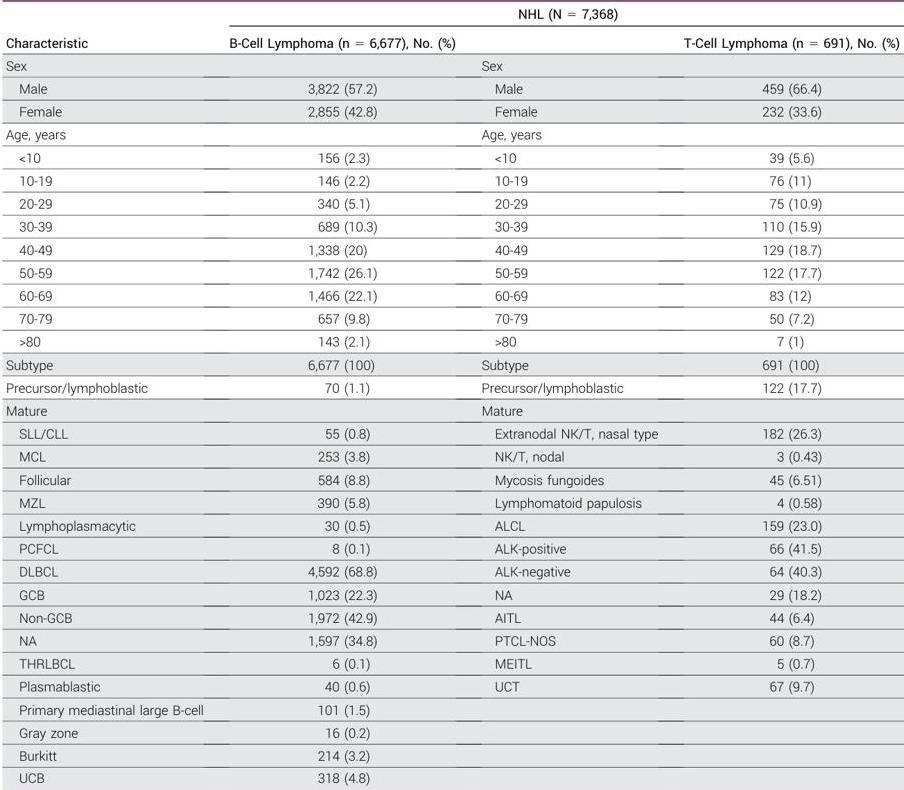table: (5, 5, 899, 785)
table column: (215, 5, 468, 785), (670, 5, 899, 785), (5, 5, 215, 785), (468, 5, 670, 785)
table column header: (5, 5, 899, 77)
table row: (5, 27, 899, 77), (5, 77, 899, 100), (5, 100, 899, 123), (5, 123, 899, 146), (5, 146, 899, 169), (5, 169, 899, 192), (5, 192, 899, 215), (5, 215, 899, 238), (5, 238, 899, 261), (5, 261, 899, 284), (5, 284, 899, 307), (5, 307, 899, 330), (5, 330, 899, 353), (5, 353, 899, 376), (5, 376, 899, 399), (5, 399, 899, 422), (5, 422, 899, 445), (5, 445, 899, 468), (5, 468, 899, 491), (5, 491, 899, 514), (5, 514, 899, 537), (5, 537, 899, 560), (5, 560, 899, 583), (5, 583, 899, 606), (5, 606, 899, 629), (5, 629, 899, 652), (5, 652, 899, 675), (5, 675, 899, 698), (5, 698, 899, 721), (5, 721, 899, 744), (5, 5, 899, 27), (5, 744, 899, 766), (5, 766, 899, 785)
table spanning cell: (5, 5, 215, 77), (215, 5, 899, 27)
